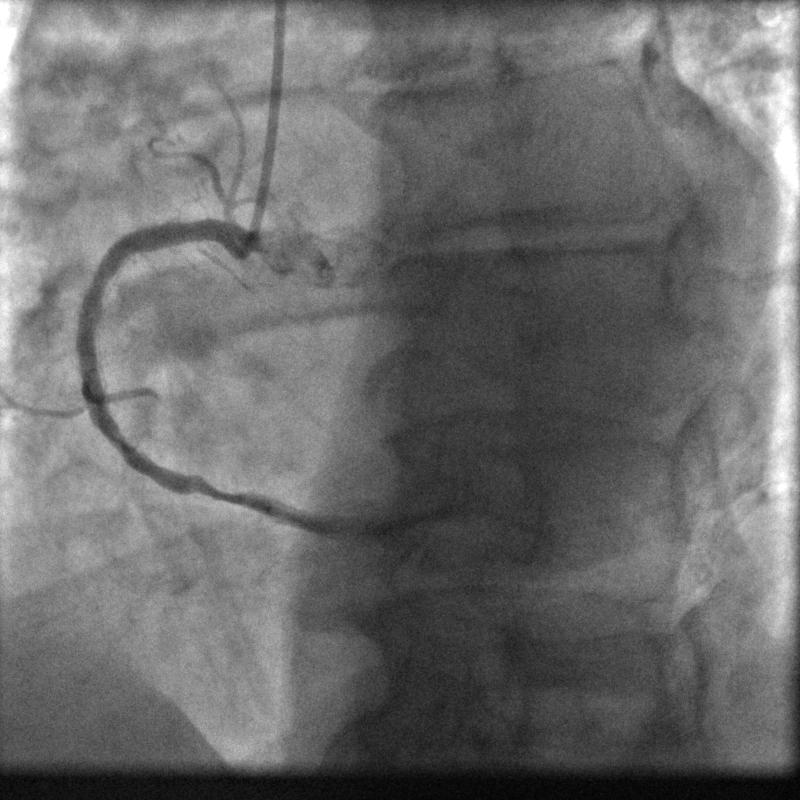Stenosis: (185, 474, 250, 515)
